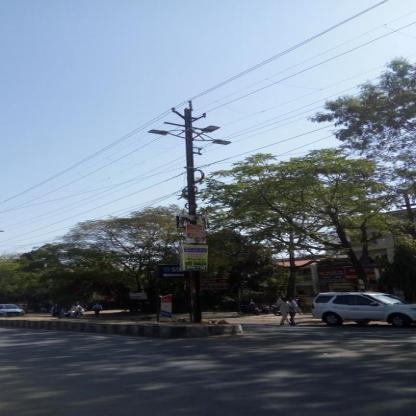Electrical Pole: (150, 95, 246, 325)
